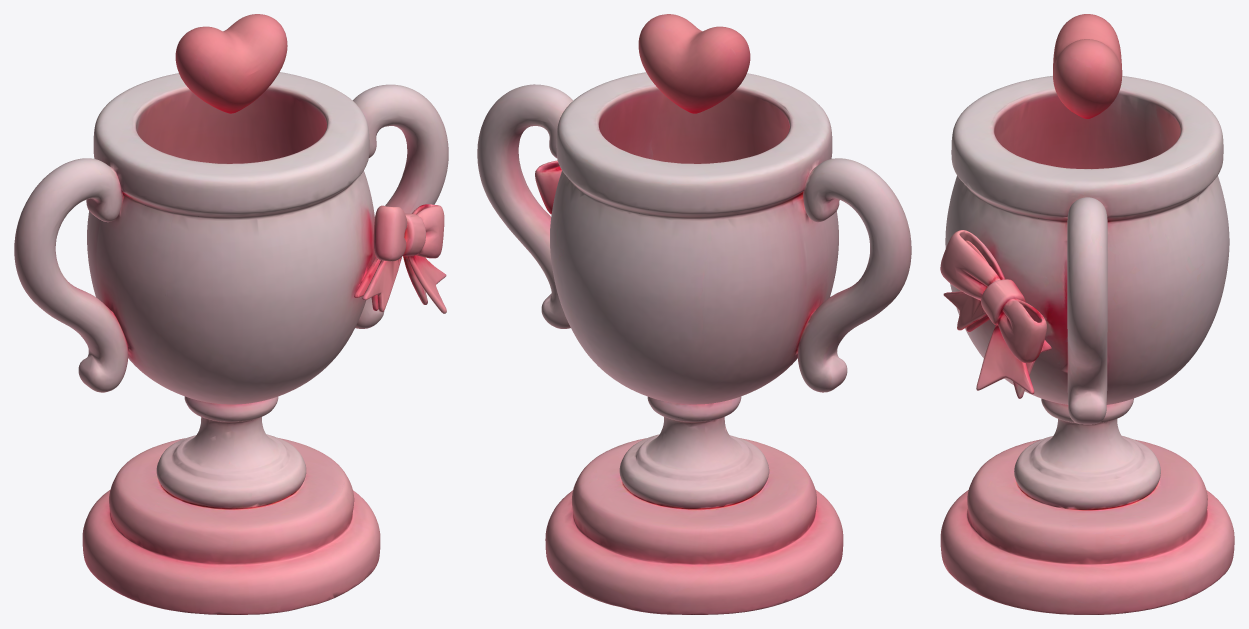
Rendered from 奖杯B.glb.
3 renders of one model, left to right at view 1: azimuth 30°, elevation 25°; view 2: azimuth 150°, elevation 25°; view 3: azimuth 270°, elevation 25°, orthographic.
Parts seen in each view (by area): view 1: node_0; view 2: node_0; view 3: node_0.
Boxes of the visible parts, x1,y1,x2,y2 form: node_0: [14, 14, 448, 614]; node_0: [477, 14, 911, 614]; node_0: [940, 14, 1234, 614].
Bounding box in the file's own units: 0.9074 × 1.07 × 0.5454.
Materials: 1 (1 with a texture image).
